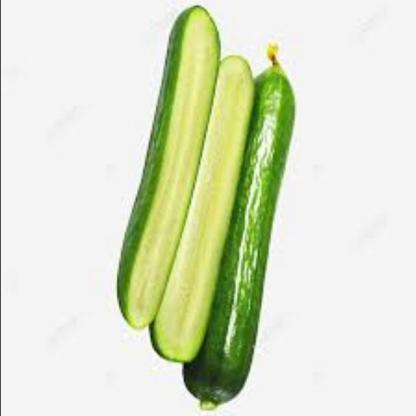cucumber: (170, 63, 301, 413), (108, 11, 223, 338), (148, 54, 256, 373)
